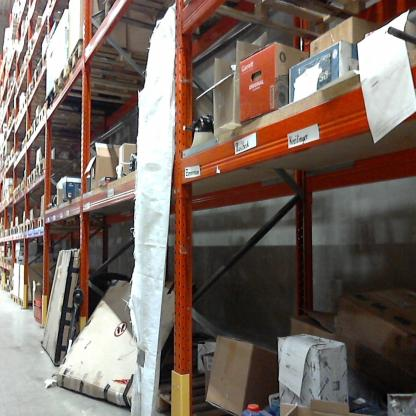pallet: (46, 63, 169, 130), (66, 37, 172, 92), (153, 375, 239, 416), (39, 103, 110, 133), (36, 213, 109, 235), (33, 157, 91, 182), (31, 57, 57, 90), (28, 115, 52, 139), (18, 130, 41, 154), (25, 81, 49, 103), (1, 256, 12, 294), (19, 296, 35, 312), (30, 165, 39, 186), (10, 294, 20, 312), (20, 172, 28, 194), (29, 216, 38, 234), (23, 220, 31, 235), (18, 221, 25, 237), (27, 171, 32, 192), (16, 183, 22, 198), (14, 224, 20, 237), (10, 228, 15, 240)
small_load_carrier: (34, 295, 51, 334)
